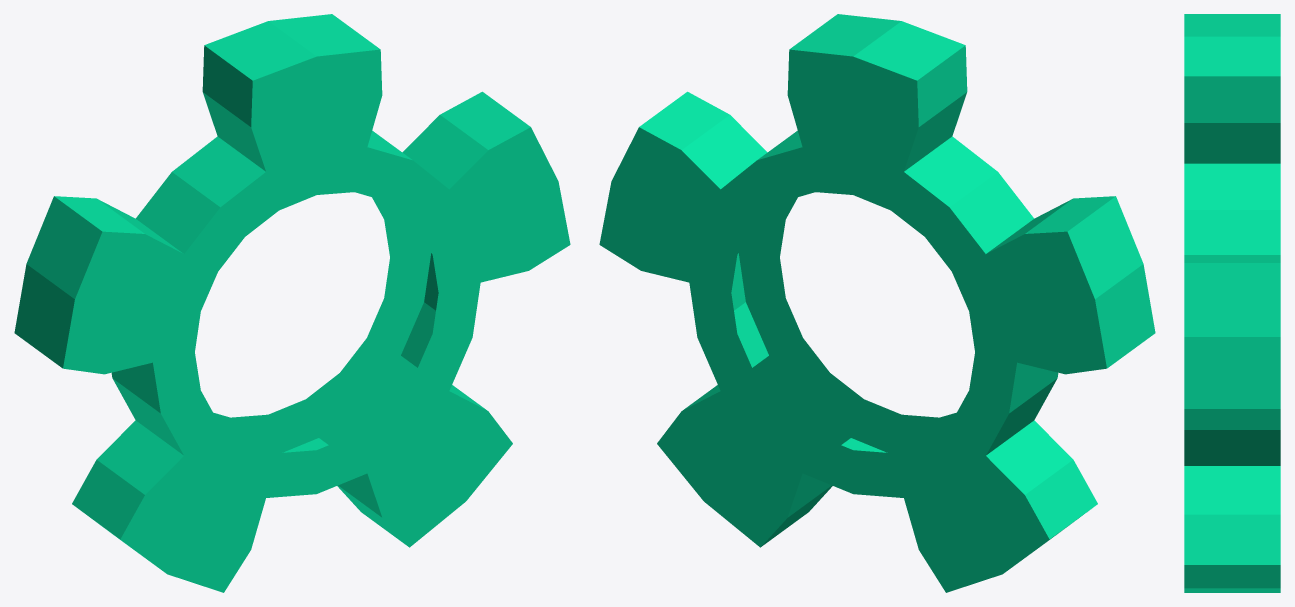
The model's file is Gear.glb.
3 renders of one model, left to right at view 1: azimuth 30°, elevation 25°; view 2: azimuth 150°, elevation 25°; view 3: azimuth 270°, elevation 25°, orthographic.
Parts seen in each view (by area): view 1: Gear; view 2: Gear; view 3: Gear.
Boxes of the visible parts, box(x1,y1,x2,y2) form: Gear: box(14, 14, 570, 592); Gear: box(599, 14, 1155, 592); Gear: box(1184, 14, 1280, 592).
Bounding box in the file's own units: 2.42 × 2.34 × 0.4.
